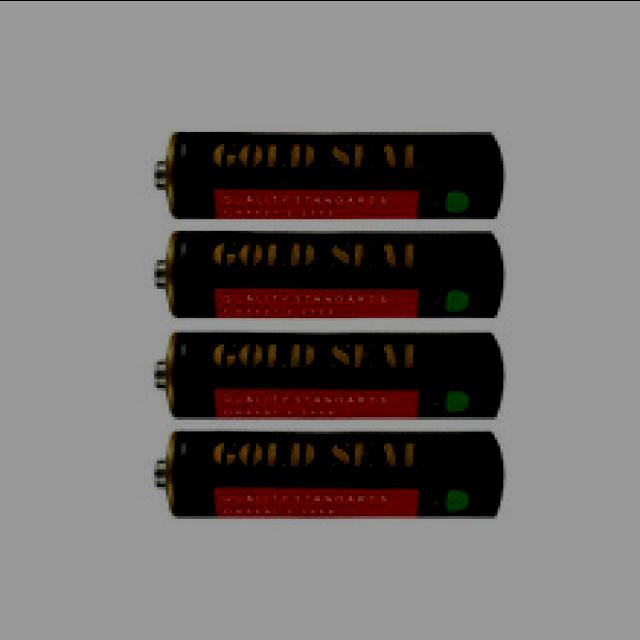AAA: (146, 422, 514, 524), (150, 226, 514, 320), (147, 131, 508, 218), (150, 334, 504, 418)
